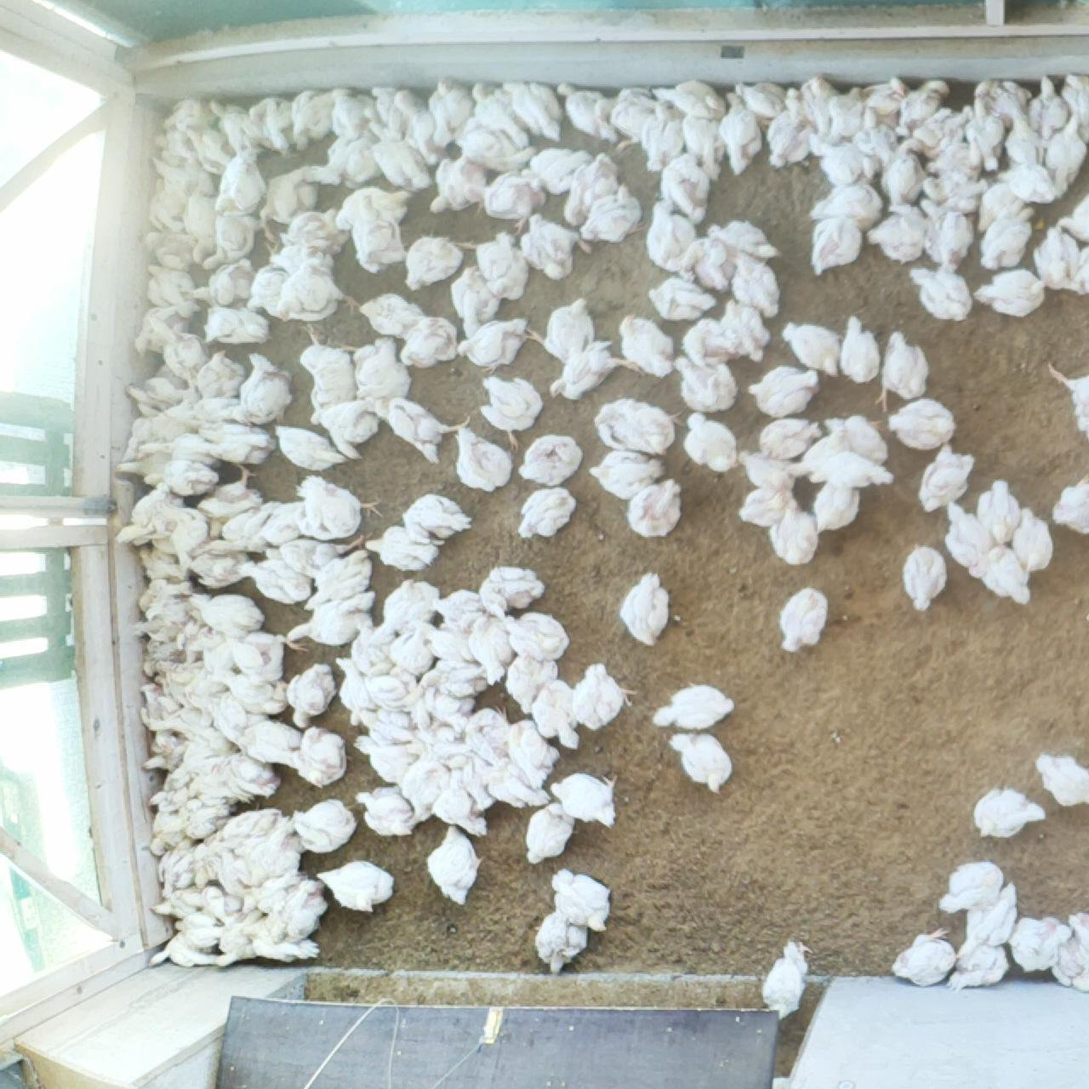chicken: (380, 397, 473, 470), (295, 324, 357, 425), (298, 473, 386, 539), (429, 825, 489, 911), (809, 184, 881, 254), (549, 346, 640, 401), (527, 299, 591, 373), (961, 97, 1018, 180), (219, 712, 300, 770), (516, 212, 587, 278), (352, 335, 407, 419), (761, 935, 812, 1024), (232, 353, 290, 430), (189, 586, 271, 640), (550, 770, 625, 829), (480, 377, 544, 446), (459, 704, 525, 770), (848, 124, 927, 178), (594, 400, 674, 453), (551, 81, 617, 145), (287, 728, 348, 797), (279, 534, 359, 586), (460, 236, 527, 298), (413, 705, 474, 773), (137, 624, 216, 676), (566, 150, 623, 222), (972, 786, 1045, 842), (956, 882, 1012, 955), (235, 555, 313, 607), (579, 181, 642, 245), (276, 267, 352, 320), (920, 121, 981, 187), (310, 401, 379, 459), (459, 121, 533, 175), (877, 331, 928, 409), (211, 668, 282, 724), (274, 422, 349, 475), (533, 909, 596, 972), (151, 426, 201, 505), (138, 582, 211, 636), (381, 581, 440, 647), (289, 606, 381, 648), (891, 934, 965, 986), (748, 363, 818, 417), (199, 462, 269, 516), (590, 450, 664, 501), (320, 857, 394, 908), (656, 687, 738, 733), (360, 525, 437, 573), (498, 82, 565, 137), (550, 869, 613, 927), (660, 154, 711, 225), (446, 274, 497, 345), (308, 551, 376, 604), (981, 211, 1041, 271), (607, 89, 665, 151), (1046, 359, 1089, 442), (673, 354, 734, 412), (918, 448, 974, 511), (670, 735, 734, 790), (972, 271, 1050, 316), (220, 627, 305, 668), (351, 208, 403, 275), (984, 178, 1058, 225), (573, 667, 634, 724), (514, 487, 577, 542), (296, 803, 359, 858), (708, 223, 783, 269), (726, 95, 769, 175), (518, 137, 591, 184), (277, 668, 334, 728), (619, 573, 667, 644), (219, 146, 272, 210), (1042, 123, 1089, 195), (470, 565, 539, 614), (241, 821, 299, 879), (143, 498, 200, 557), (486, 167, 541, 228), (268, 882, 329, 937), (153, 839, 205, 903), (114, 491, 170, 550), (354, 785, 413, 841), (620, 313, 675, 373), (454, 327, 525, 373), (977, 542, 1028, 606), (328, 134, 379, 198), (407, 233, 462, 292), (439, 787, 493, 847), (677, 107, 726, 173), (518, 434, 579, 487), (466, 615, 512, 685), (402, 496, 475, 540), (186, 354, 242, 411), (149, 924, 214, 973), (769, 91, 812, 165), (886, 402, 955, 448), (498, 611, 564, 659), (910, 265, 972, 316), (280, 210, 357, 251), (875, 198, 922, 265), (656, 72, 729, 115), (786, 322, 843, 376), (147, 770, 220, 812), (778, 586, 824, 652), (1008, 921, 1066, 973), (772, 510, 823, 569), (245, 274, 309, 321), (1003, 510, 1052, 571), (758, 418, 824, 463), (145, 216, 196, 274), (380, 652, 438, 703), (649, 278, 717, 321), (143, 672, 211, 715), (1034, 752, 1089, 805), (837, 316, 878, 387), (684, 413, 735, 470), (630, 481, 683, 535), (375, 140, 430, 192), (721, 308, 773, 363), (211, 93, 262, 149), (218, 761, 284, 804), (292, 86, 336, 150), (201, 687, 262, 733), (134, 304, 184, 360), (192, 547, 258, 589), (976, 482, 1022, 542), (123, 413, 187, 456), (146, 267, 203, 315), (141, 738, 213, 776), (488, 767, 550, 811), (1052, 468, 1089, 541), (368, 85, 423, 134), (357, 296, 426, 335), (947, 502, 986, 571), (204, 212, 268, 254), (338, 651, 382, 712), (995, 155, 1052, 202), (127, 545, 197, 583), (804, 423, 848, 483), (950, 942, 1006, 989), (259, 493, 306, 548), (641, 104, 682, 167), (922, 204, 963, 267), (938, 866, 998, 909), (145, 160, 191, 216), (1036, 225, 1080, 283), (846, 416, 894, 469), (433, 657, 486, 705), (204, 836, 247, 895), (203, 927, 262, 970), (425, 80, 470, 136), (401, 320, 451, 370), (733, 259, 781, 311), (814, 481, 862, 533), (257, 939, 330, 973), (168, 328, 205, 395), (902, 550, 944, 609), (527, 807, 570, 864), (1027, 75, 1062, 145), (204, 521, 268, 559), (679, 242, 733, 287), (507, 728, 555, 778), (741, 484, 799, 525), (253, 249, 319, 285), (206, 428, 270, 465), (205, 264, 264, 304), (821, 459, 899, 489), (407, 769, 445, 830), (264, 170, 316, 214), (369, 731, 412, 783), (432, 589, 489, 627), (535, 668, 568, 733), (130, 368, 181, 410), (220, 152, 258, 208), (258, 94, 295, 151), (739, 81, 790, 121), (833, 98, 875, 146), (687, 325, 739, 362), (1059, 78, 1089, 142), (147, 716, 207, 748), (1062, 915, 1089, 984), (119, 450, 169, 485), (191, 798, 242, 832), (148, 130, 203, 161), (292, 812, 338, 849), (148, 889, 200, 921), (194, 127, 232, 169), (187, 185, 214, 241), (213, 903, 259, 935), (429, 630, 471, 664), (151, 805, 184, 839), (163, 105, 203, 133)
